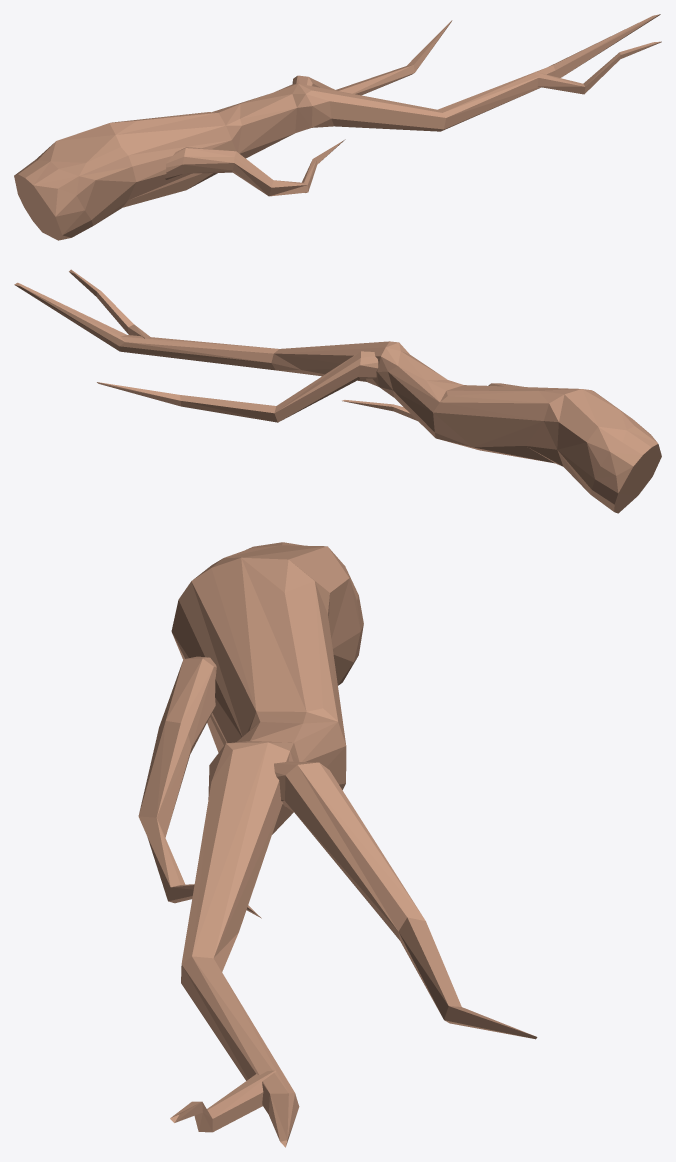
The model's file is fir_tree_6.fbx.
3 views of the same model, one above another, from view 1: azimuth 30°, elevation 25°; view 2: azimuth 150°, elevation 25°; view 3: azimuth 270°, elevation 25° (orthographic). The views are drawn at different scales.
Parts seen in each view (by area): view 1: fir_tree_trunk_6_LOD0; view 2: fir_tree_trunk_6_LOD0; view 3: fir_tree_trunk_6_LOD0.
Boxes of the visible parts, x1=… form: fir_tree_trunk_6_LOD0: x1=14, y1=14, x2=661, y2=240; fir_tree_trunk_6_LOD0: x1=14, y1=269, x2=661, y2=513; fir_tree_trunk_6_LOD0: x1=138, y1=542, x2=537, y2=1147.
Size of what is drawn, in the model's own units: 7.23 by 1.08 by 1.96.
